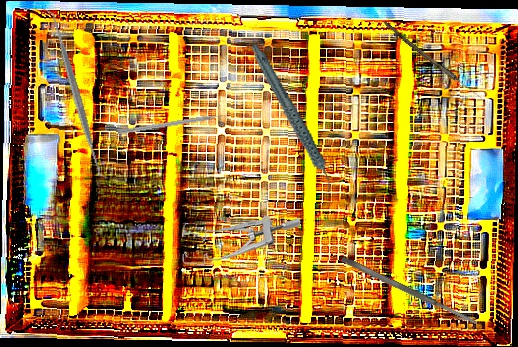Chopper: (117, 112, 232, 141)
Handpiece: (248, 34, 335, 203)
Spatula Surgical: (40, 2, 111, 184), (340, 254, 479, 328)
Speculum: (181, 211, 300, 270)
Surgical Spoon: (381, 21, 485, 101)
